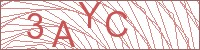3: (24, 12, 44, 40)
A: (49, 19, 77, 48)
C: (103, 9, 128, 39)
Y: (78, 1, 104, 29)
